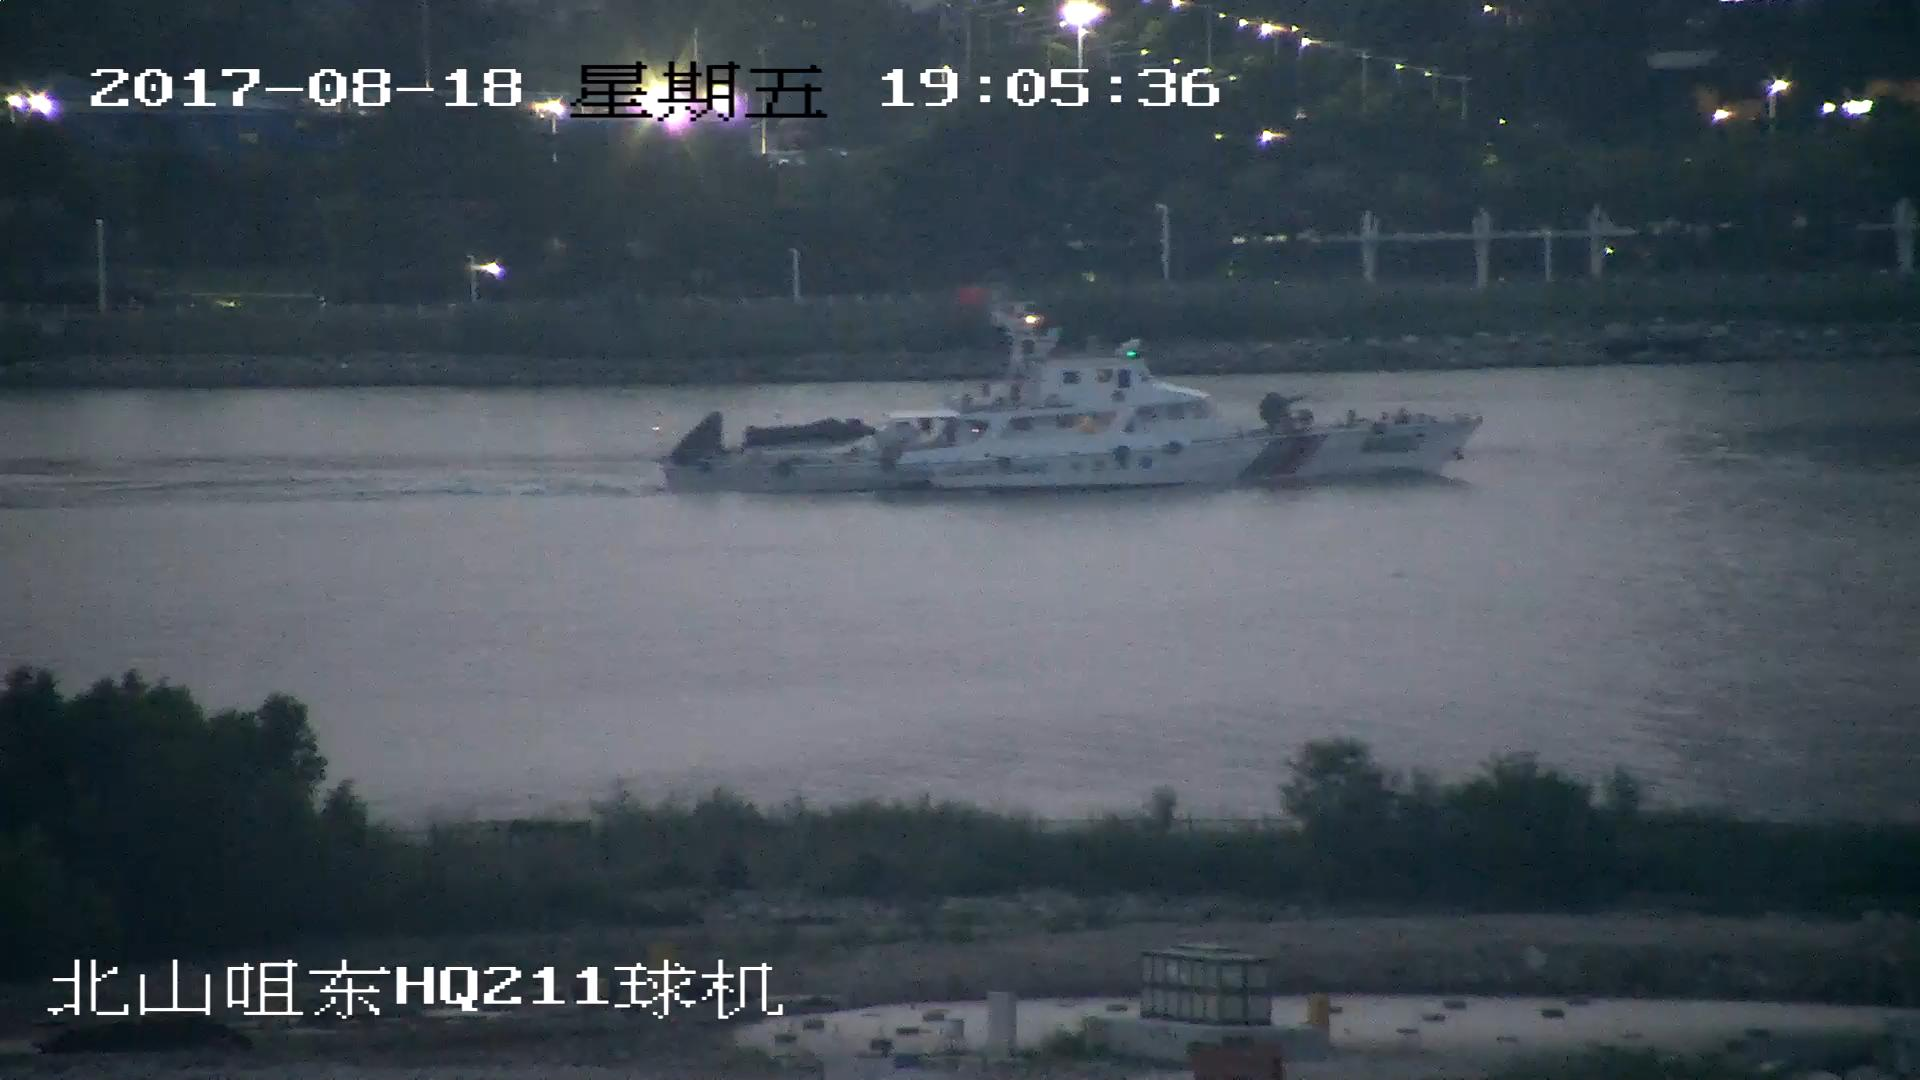passenger ship: (660, 312, 1482, 494)
